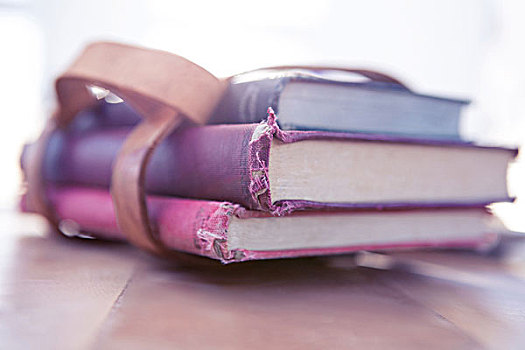book: (21, 122, 517, 213), (49, 70, 500, 145), (36, 195, 510, 263)
